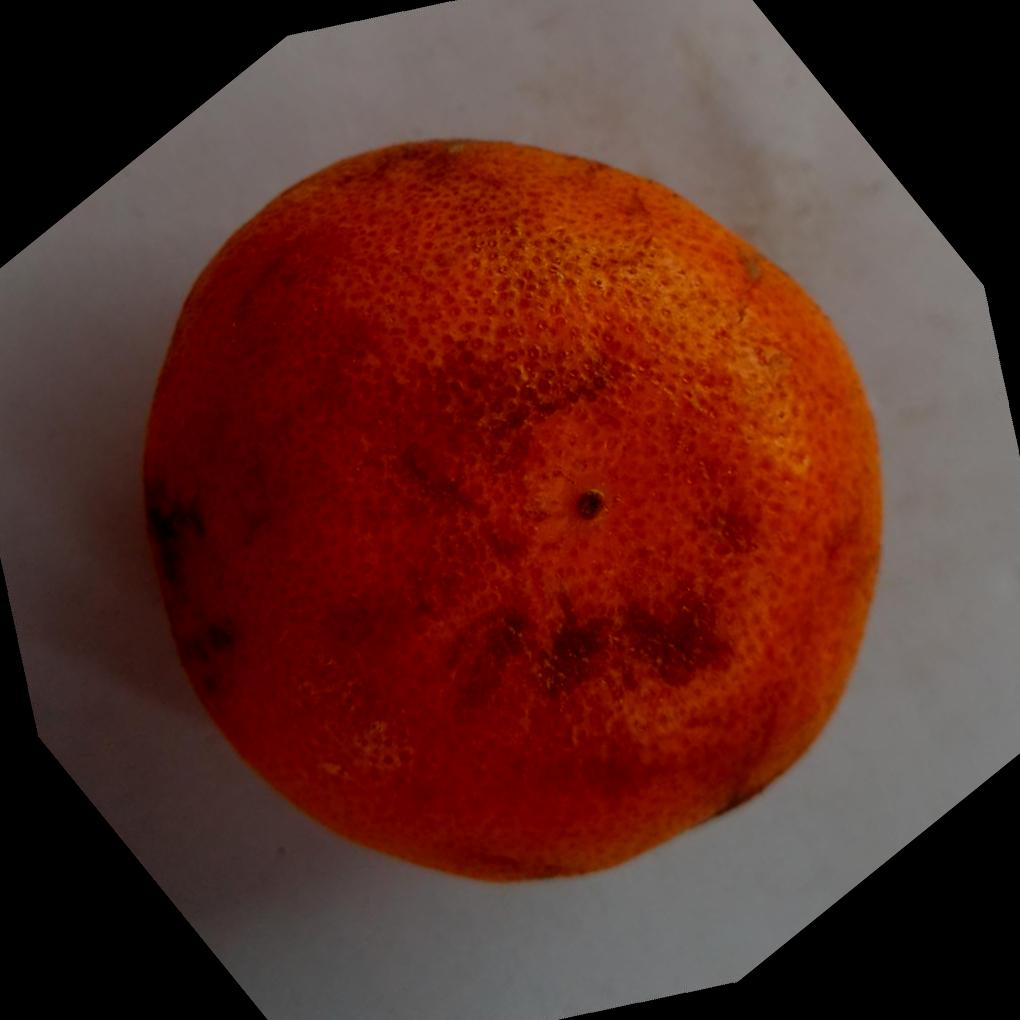FreshOrange: (137, 132, 883, 884)
